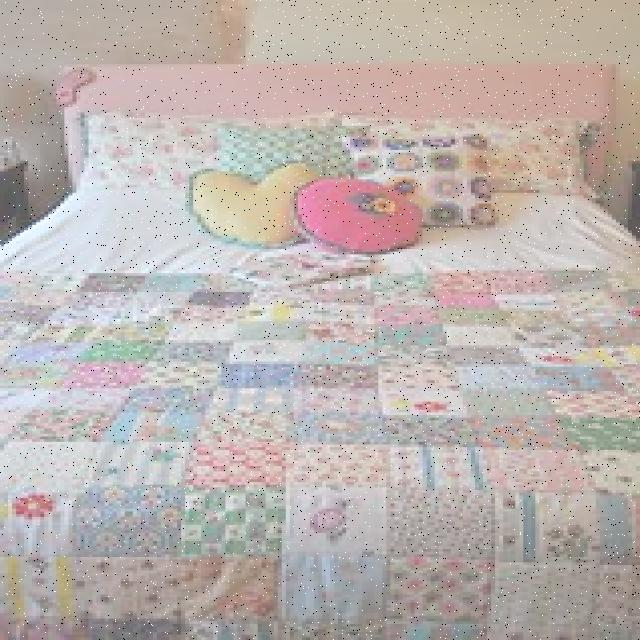bed: (26, 58, 640, 640)
